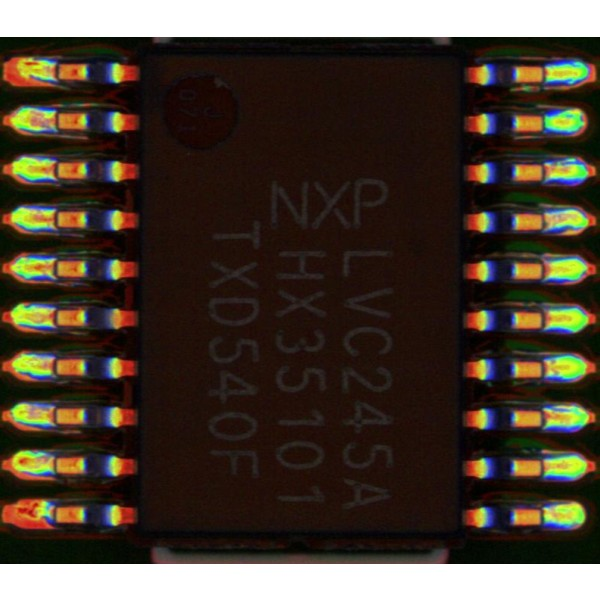Bad_podu: (34, 262, 77, 276), (525, 312, 566, 325), (35, 115, 72, 128), (529, 363, 566, 376), (530, 411, 567, 424), (527, 264, 563, 277), (37, 360, 70, 374), (33, 312, 71, 324), (40, 163, 73, 176), (36, 457, 67, 470), (40, 64, 70, 77), (526, 462, 561, 473), (531, 69, 563, 81), (530, 166, 564, 177), (39, 212, 70, 224), (41, 410, 70, 422), (535, 216, 562, 227)
